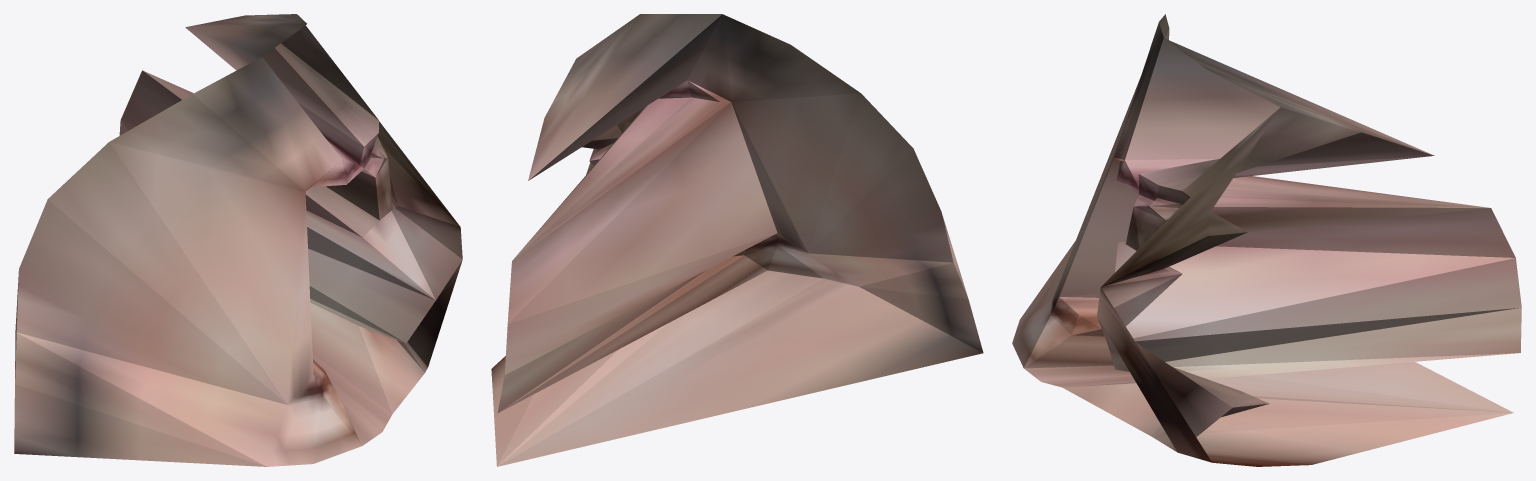
The model's file is fake_4070.obj.
The picture shows the model from 3 angles, left to right: view 1: azimuth 30°, elevation 25°; view 2: azimuth 150°, elevation 25°; view 3: azimuth 270°, elevation 25°; orthographic projection. The views are drawn at different scales.
Size of the model in its own units: 105 by 84 by 112.
